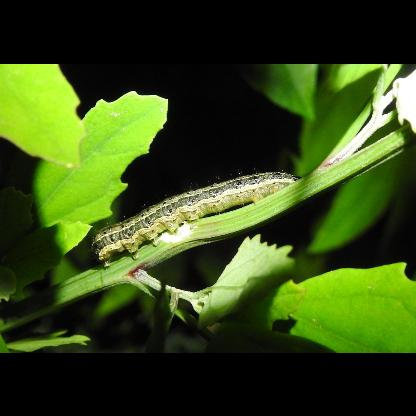Fall Armyworm Larvae: (86, 164, 308, 268)
